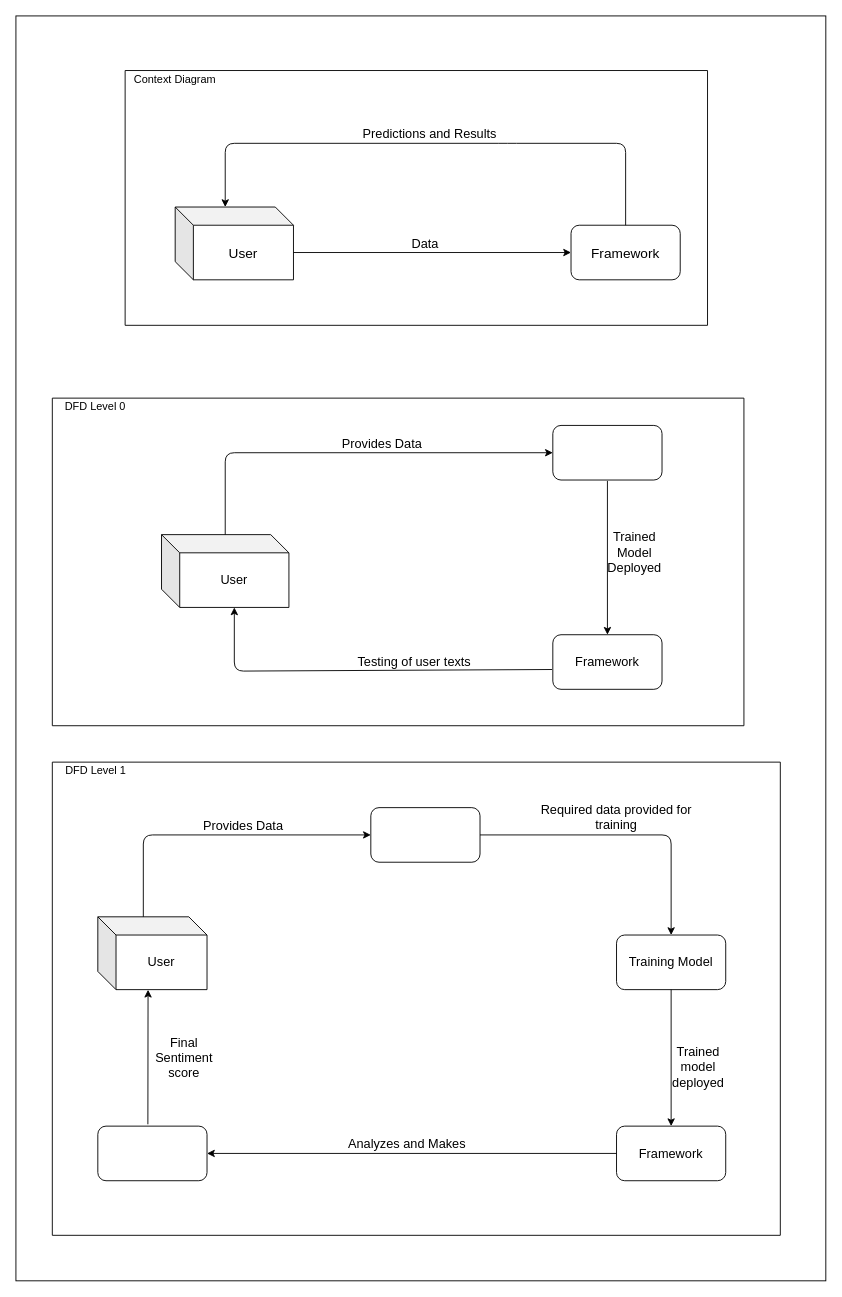
Some shapes in this 842 by 1297 pixel diagram are drawn without their labels. Here are the shapes that lost their labels. From the top down, the centre of each, then its label:
pixel 607 452: Model (1)
pixel 425 834: preProcess data
pixel 152 1153: Sentiment Probablity
